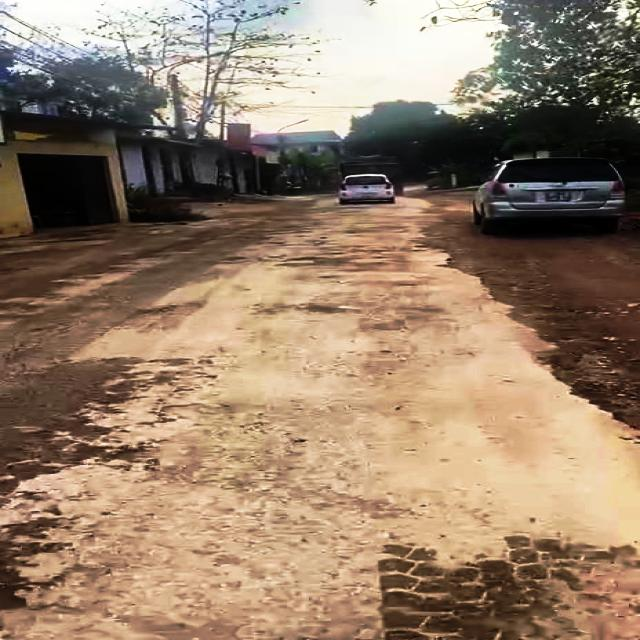pothole: (0, 415, 116, 485), (0, 522, 44, 608)
